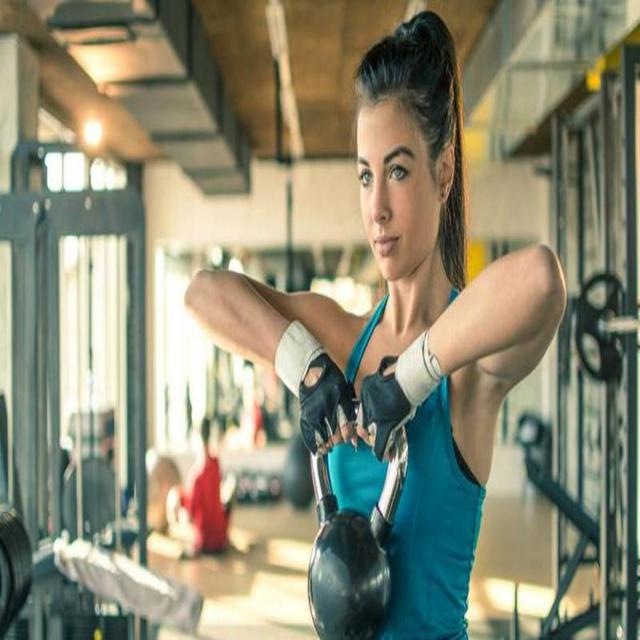Kettlebell: (302, 375, 414, 639)
